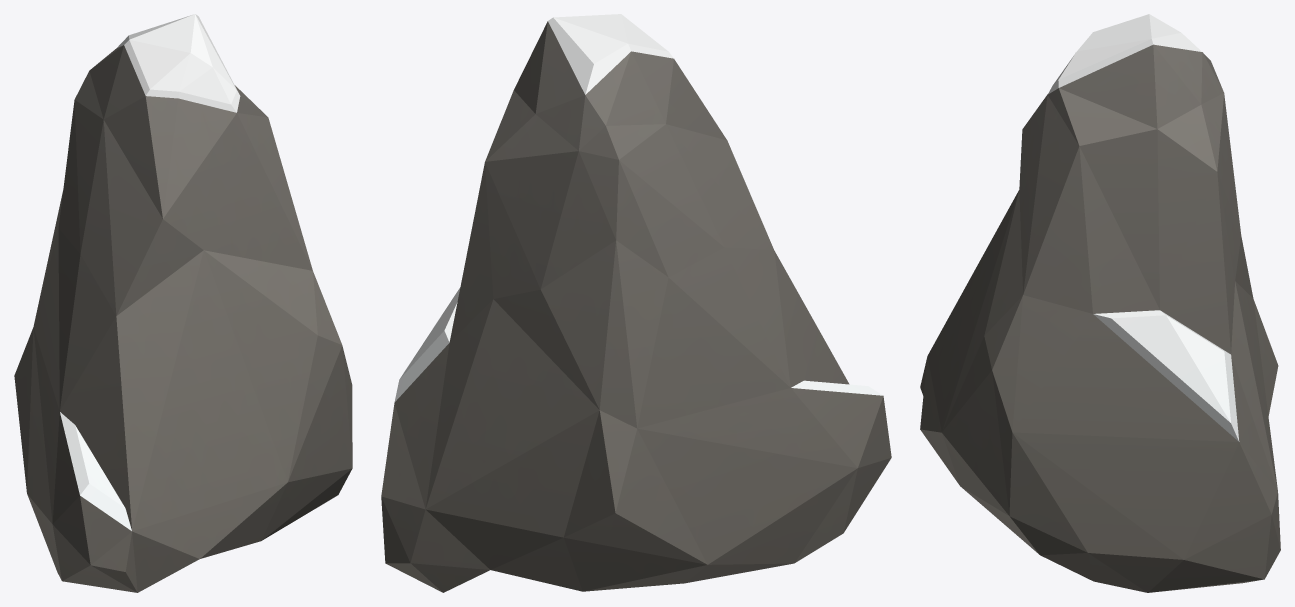
File: HX-shitou3.FBX
3 views of the same model, side by side, from view 1: azimuth 30°, elevation 25°; view 2: azimuth 150°, elevation 25°; view 3: azimuth 270°, elevation 25° (orthographic). The views are drawn at different scales.
Visible parts, largest first — view 1: shitou3, xue3; view 2: shitou3, xue3; view 3: shitou3, xue3.
Part boxes in pixels (left/top/right/bottom): shitou3: left=14, top=45, right=352, bottom=592; xue3: left=60, top=14, right=240, bottom=530; shitou3: left=381, top=21, right=891, bottom=592; xue3: left=394, top=14, right=882, bottom=401; shitou3: left=920, top=44, right=1280, bottom=592; xue3: left=1048, top=14, right=1239, bottom=441.
Bounding box in the file's own units: 486 × 714 × 452.
